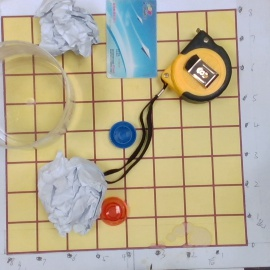card: (103, 1, 159, 80)
